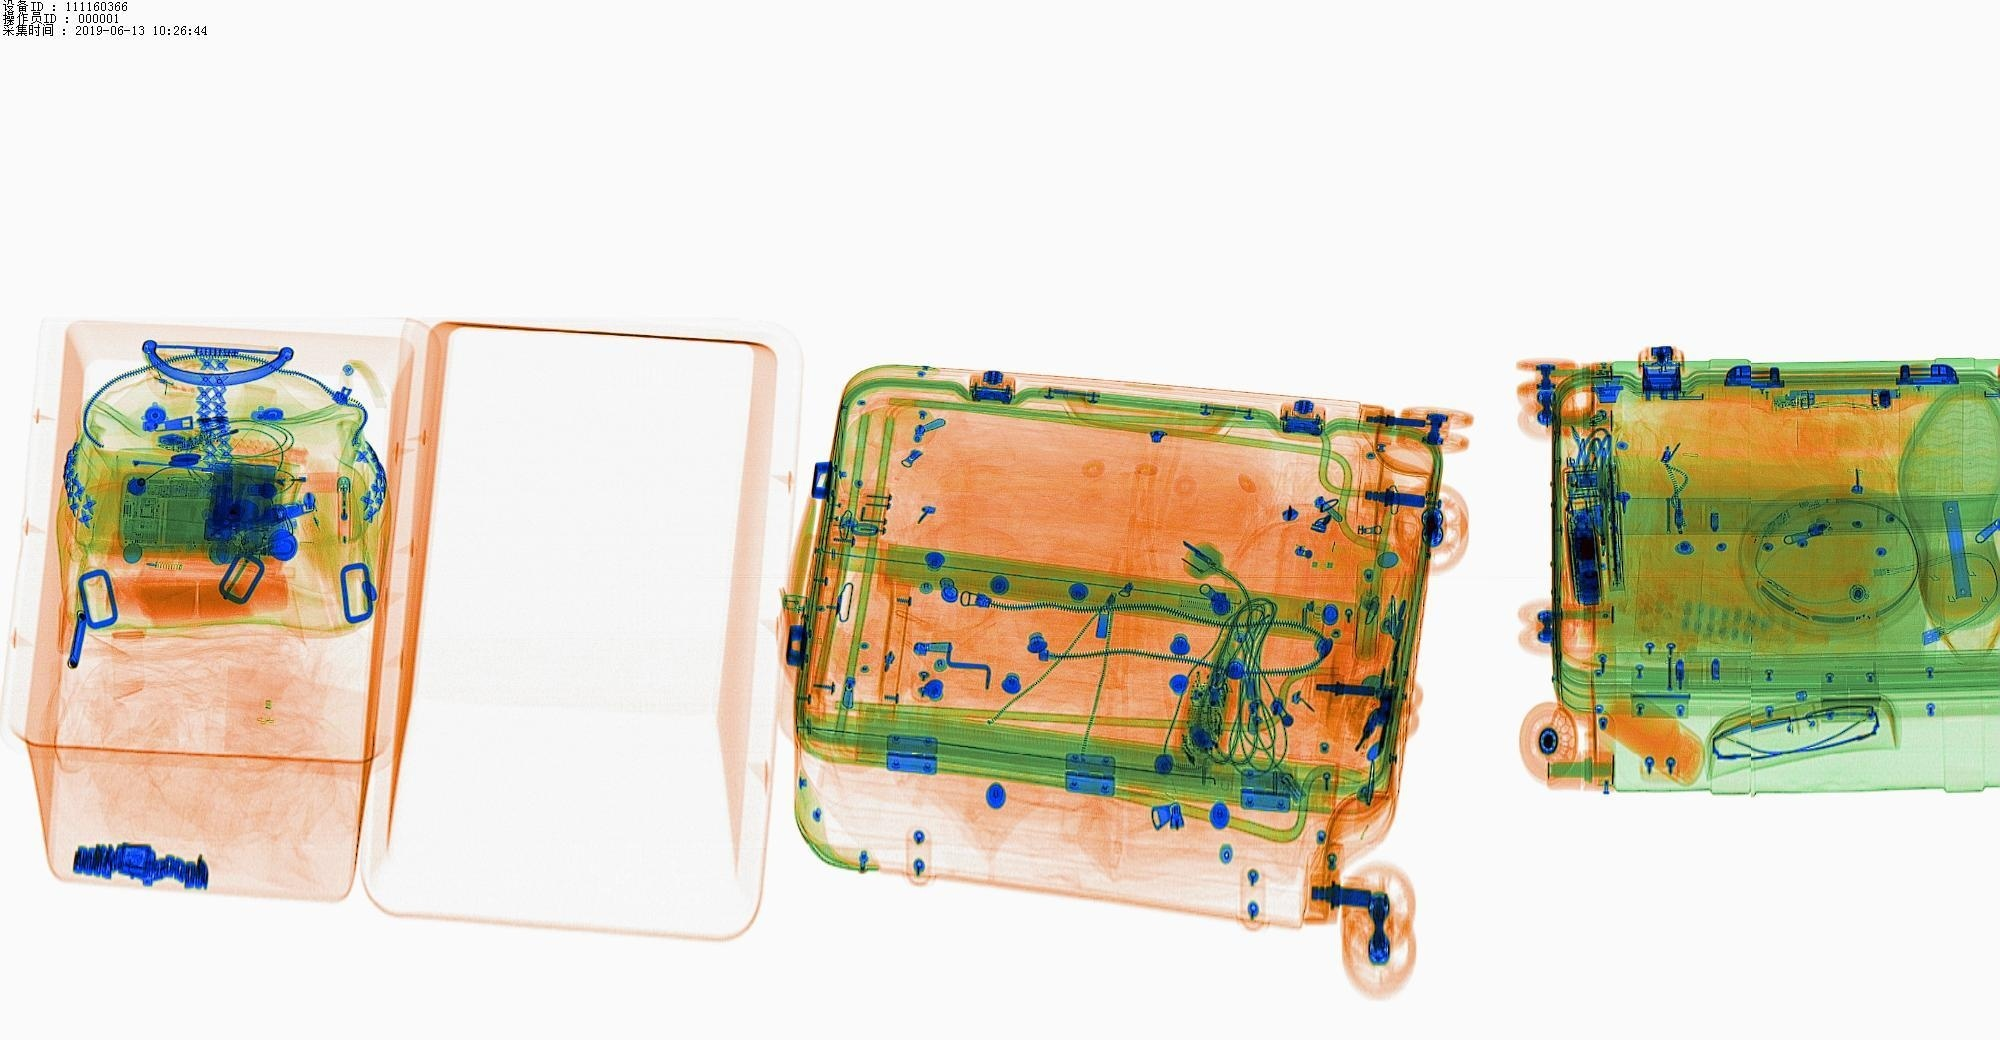NonmetallicFire: (336, 466, 365, 552)
